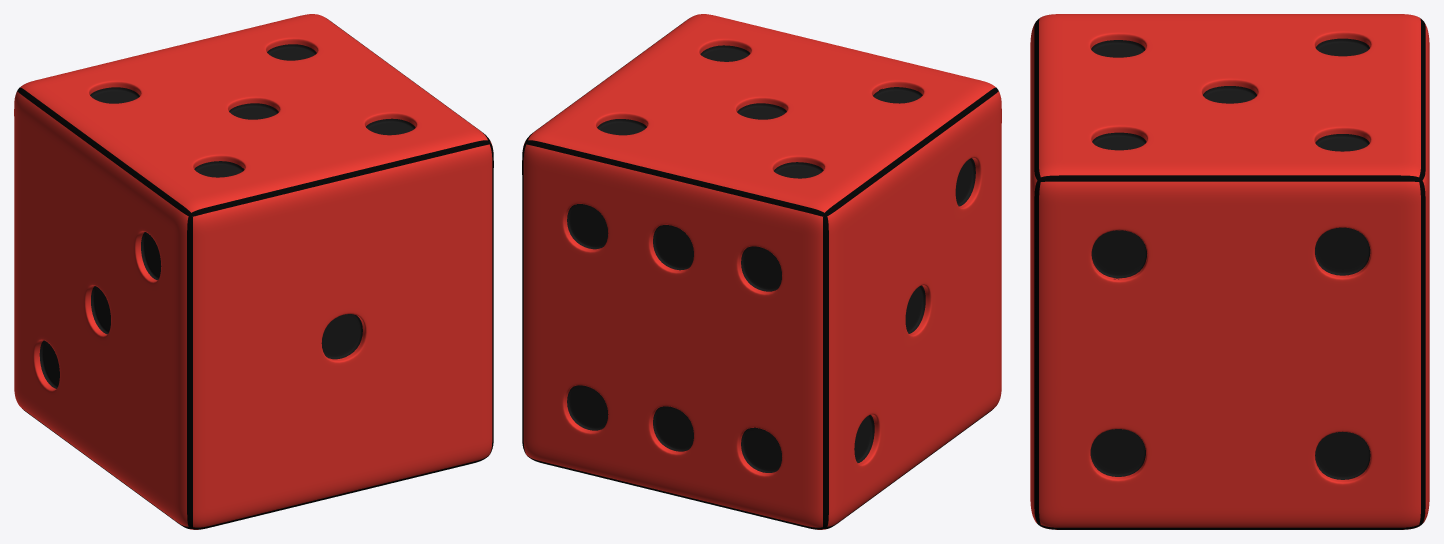
File: Dice.gltf
3 renders of one model, left to right at view 1: azimuth 30°, elevation 25°; view 2: azimuth 150°, elevation 25°; view 3: azimuth 270°, elevation 25°, orthographic. The views are drawn at different scales.
Visible parts, largest first — view 1: dice 2; view 2: dice 2; view 3: dice 2.
Boxes of the visible parts, left/top/right/bottom form: dice 2: left=14, top=14, right=493, bottom=529; dice 2: left=522, top=14, right=1001, bottom=529; dice 2: left=1030, top=14, right=1429, bottom=529.
Bounding box in the file's own units: 1.76 × 1.76 × 1.76.
